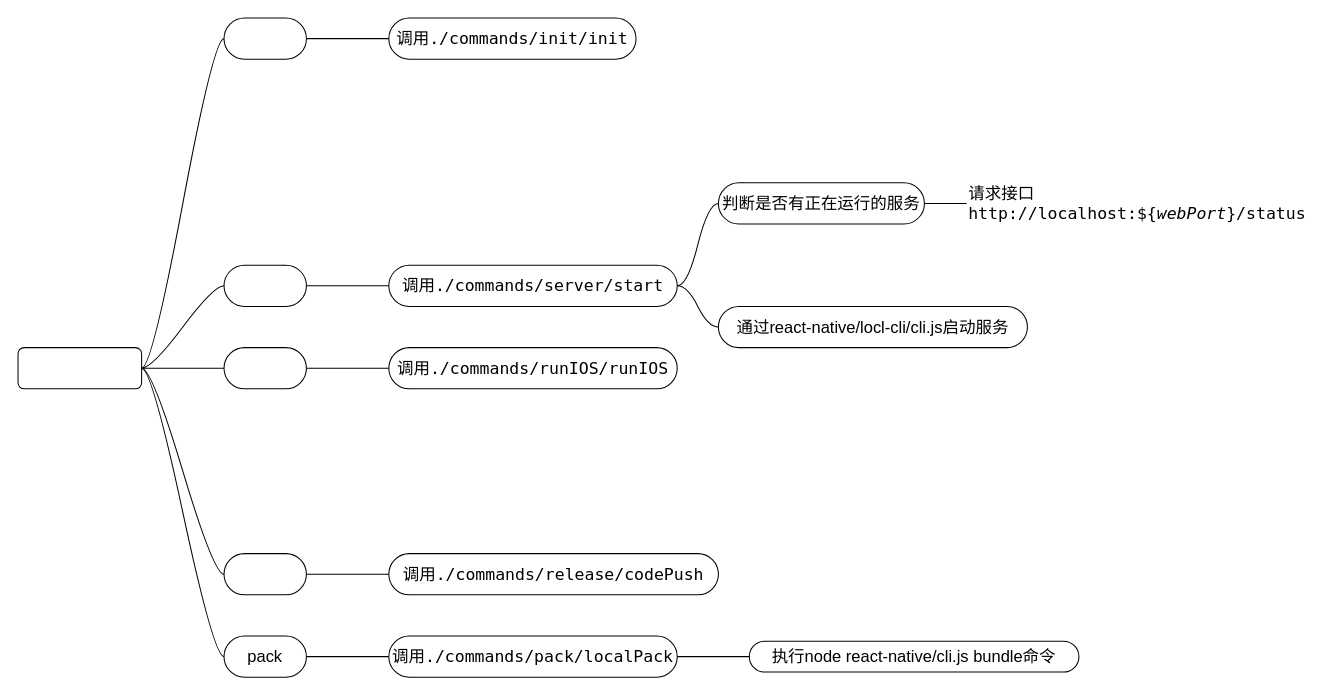
The diagram is 1335 pixels wide and 695 high, and some of its shapes have lost their labels. Here are the shapes that lost their labels. From the top down, the centre of each, then its label:
At pixel 264 38: "init".
At pixel 264 285: "start".
At pixel 79 368: "trn-cli".
At pixel 264 368: "run-ios".
At pixel 264 574: "release".
